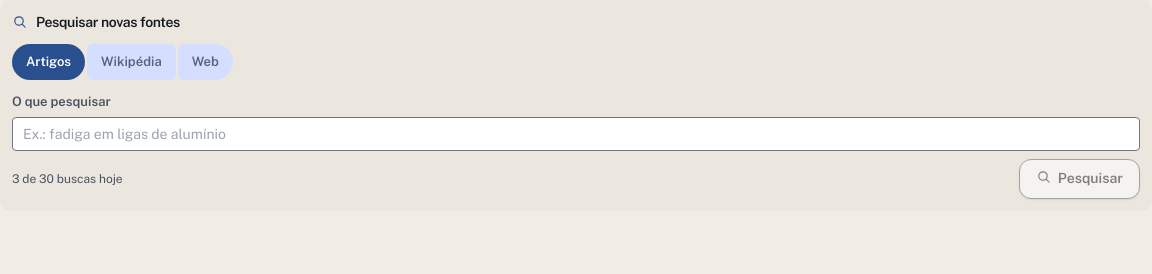
Test: SourceSearch — switching provider › clears a stale error
In the search field labelled "O que pesquisar": {"x": 576, "y": 134} [12,116,1140,150], type "fadiga"
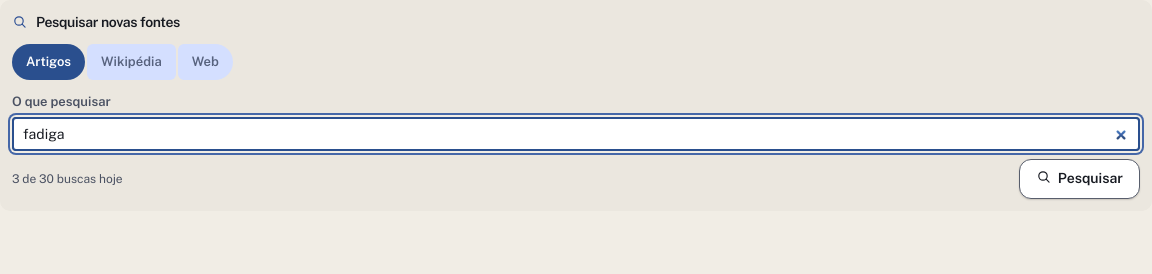
Click the button "Pesquisar": {"x": 1079, "y": 178} [1019,158,1140,198]
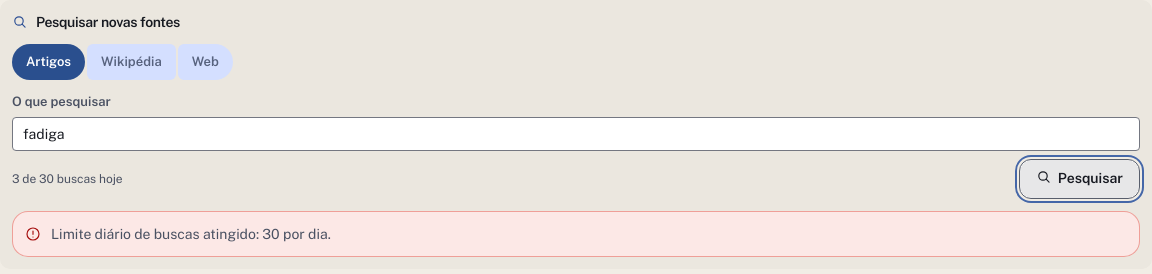
Check: the message reads "Limite diário de buscas atingido: 30 por dia.", box [51,226,331,242]
Click the button "Wikipédia": {"x": 131, "y": 62} [87,44,176,80]
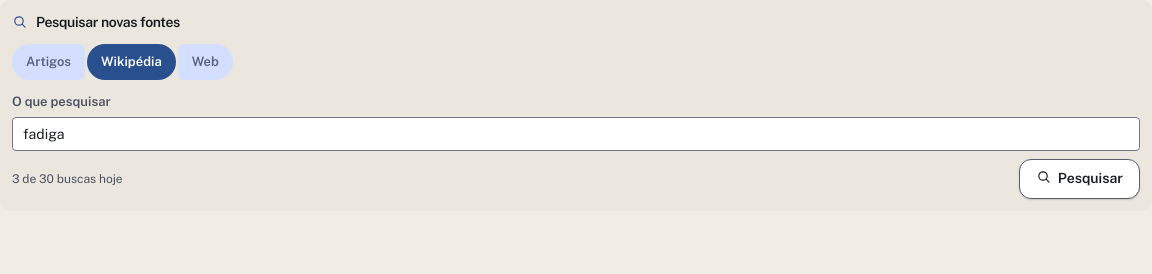
Check: the message "Limite diário de buscas atingido: 30 por dia." is gone
